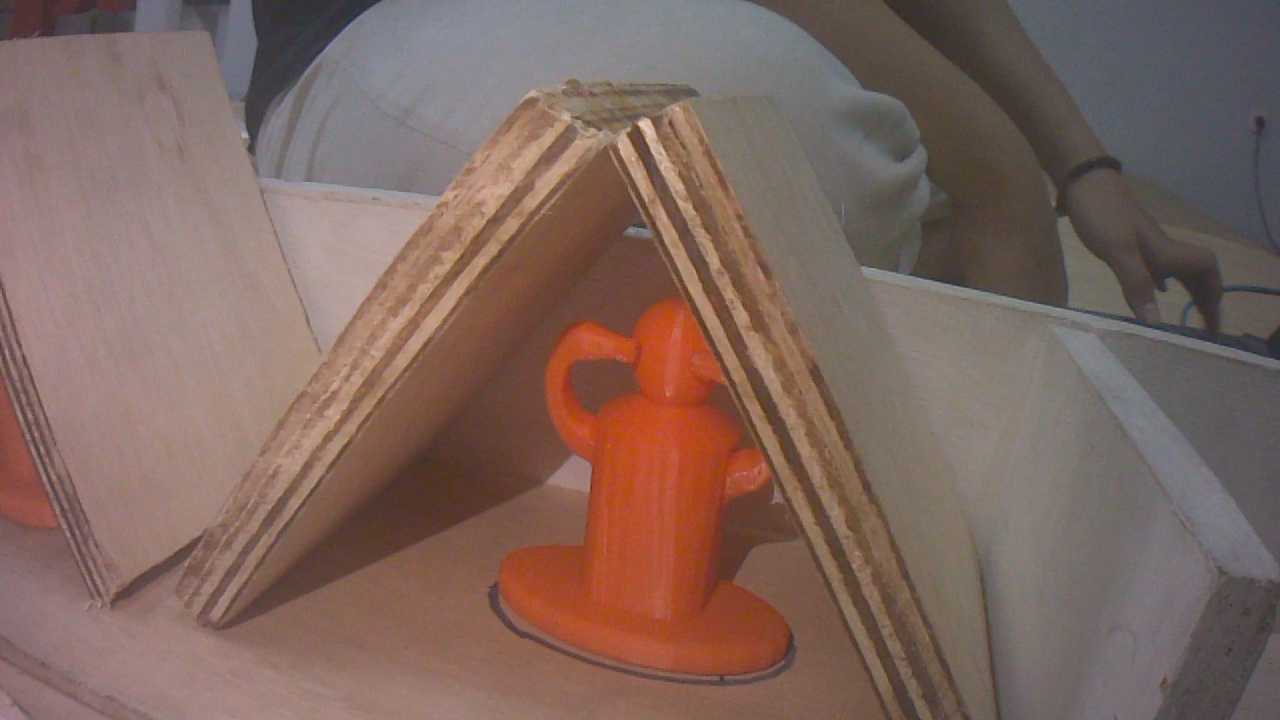real: (498, 275, 784, 681)
